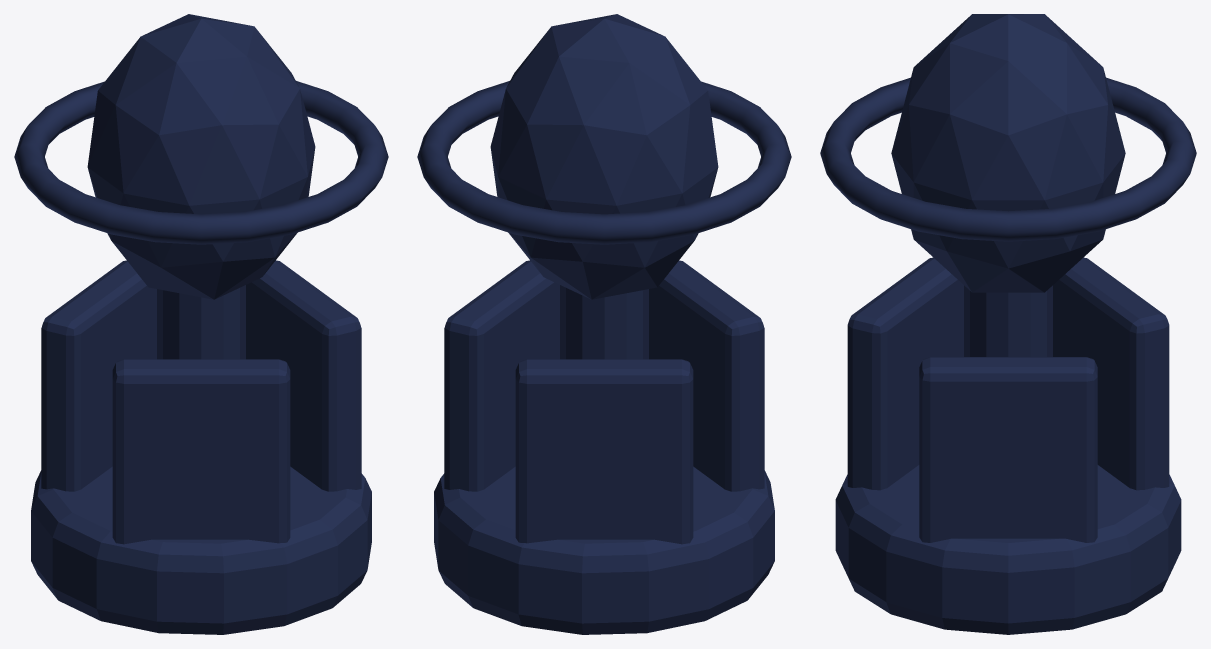
File: switch_beacon.glb
3 renders of one model, left to right at view 1: azimuth 30°, elevation 25°; view 2: azimuth 150°, elevation 25°; view 3: azimuth 270°, elevation 25°, orthographic.
Parts seen in each view (by area): view 1: switch_beacon_MobileMesh; view 2: switch_beacon_MobileMesh; view 3: switch_beacon_MobileMesh.
Boxes of the visible parts, x1,y1,x2,y2 form: switch_beacon_MobileMesh: (14,14,388,634); switch_beacon_MobileMesh: (417,14,791,634); switch_beacon_MobileMesh: (820,14,1196,634).
Bounding box in the file's own units: 1.35 × 2.2 × 1.35.
